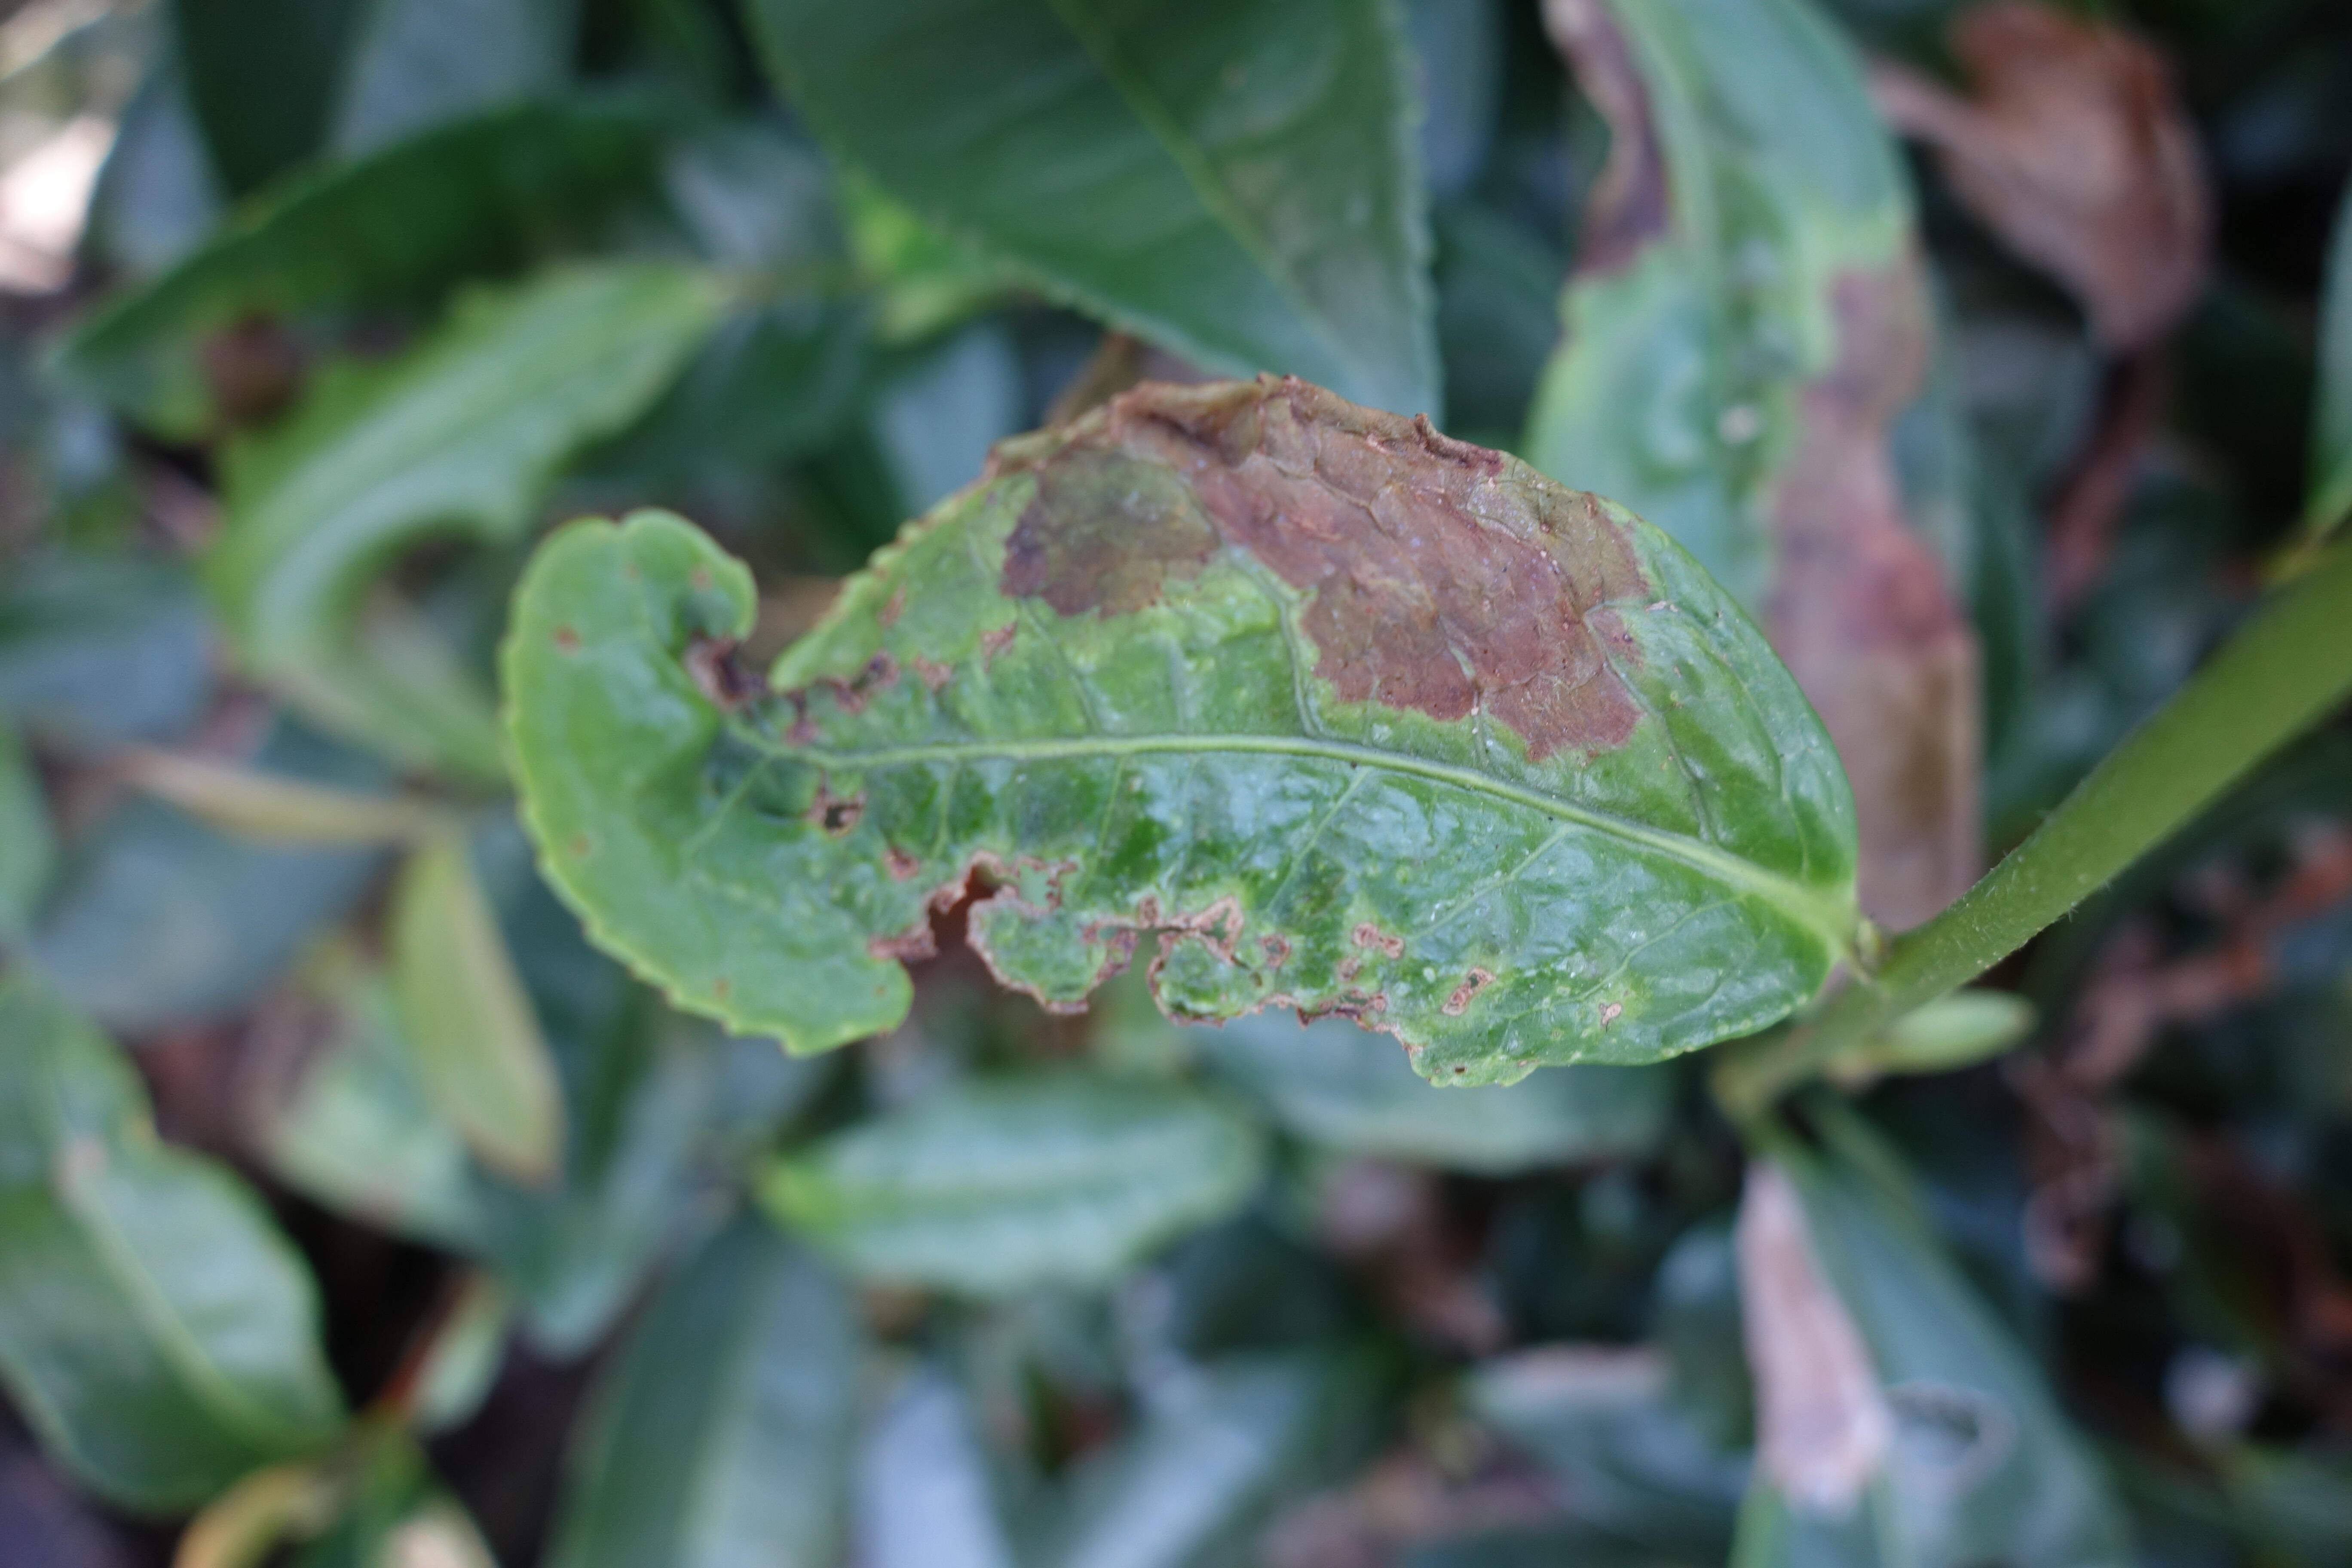tanju_high: (497, 374, 1864, 1092)
